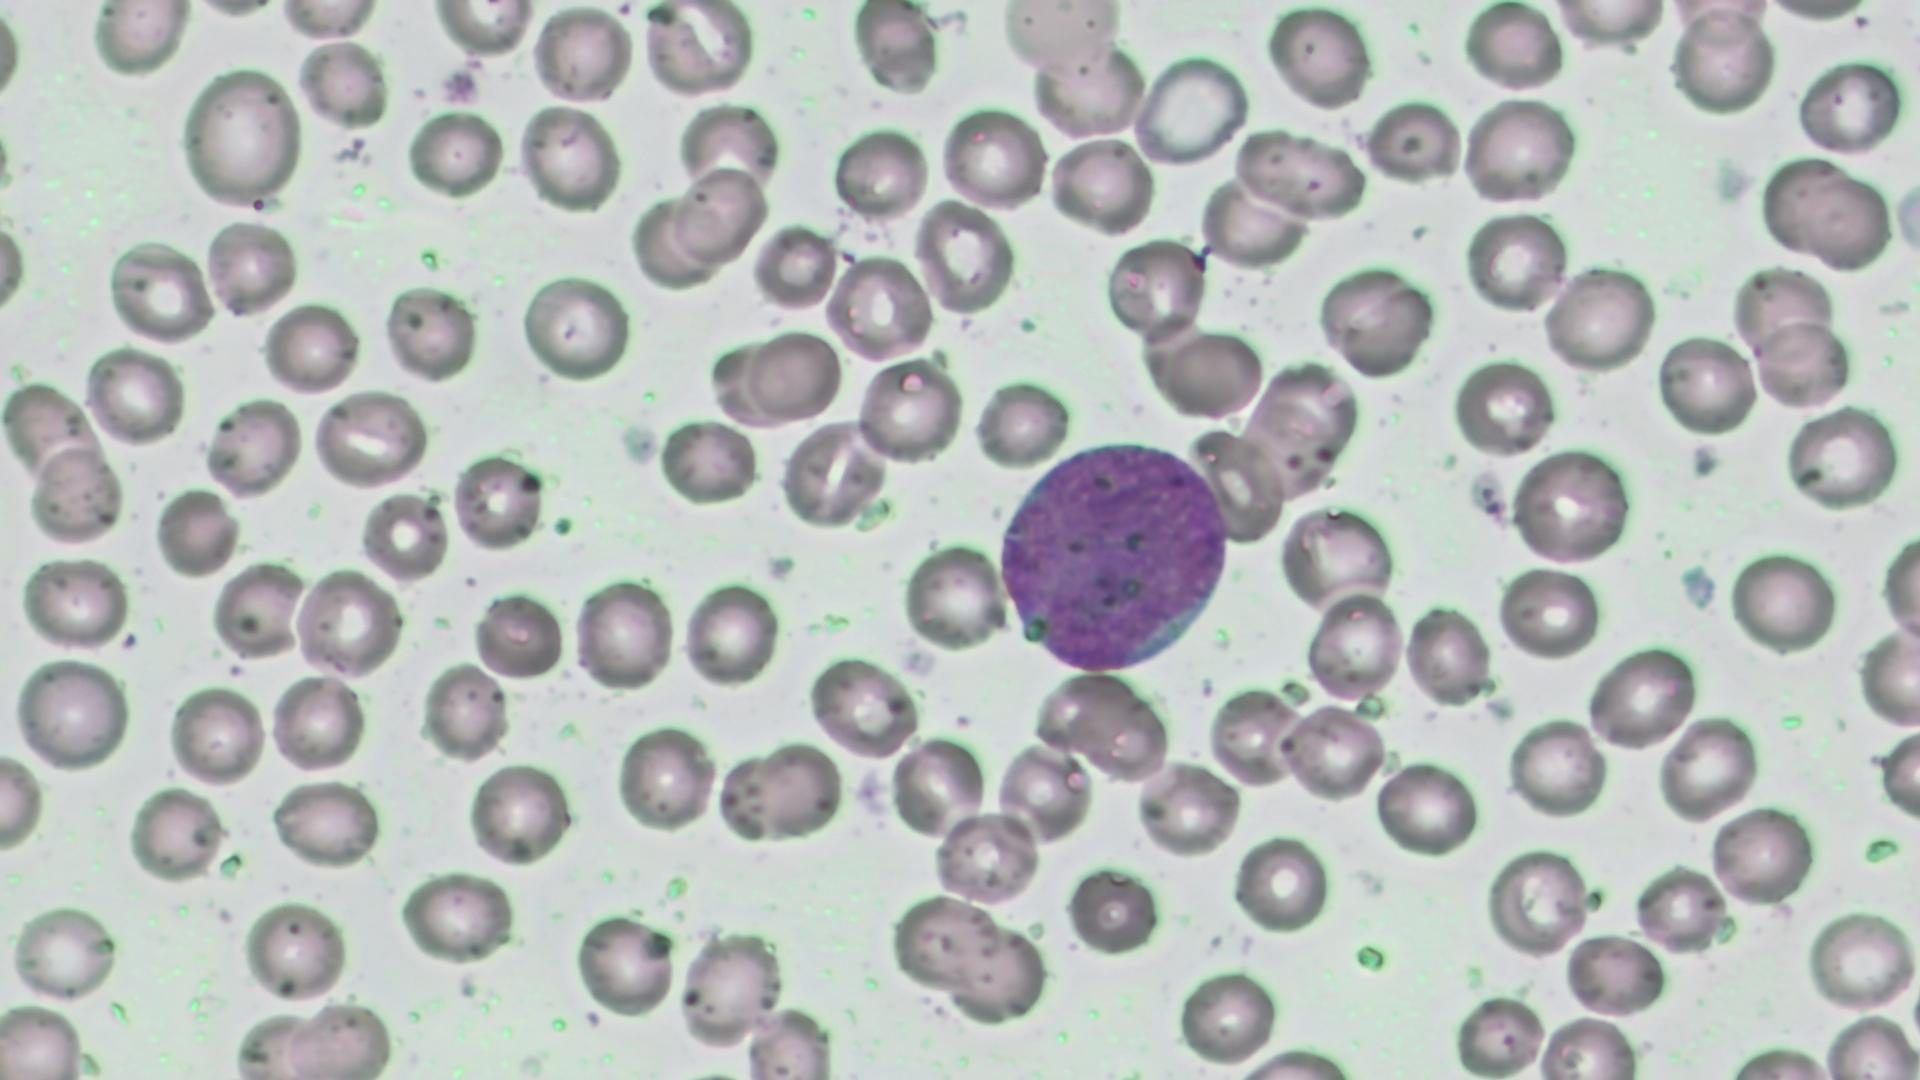Platelets: (1466, 468, 1514, 523), (438, 64, 484, 110), (848, 766, 892, 811), (1689, 442, 1722, 480)
RBC: (179, 64, 306, 211), (1756, 153, 1894, 270), (1509, 446, 1629, 566), (1130, 50, 1250, 169), (675, 926, 787, 1052), (1317, 262, 1436, 379), (1459, 92, 1578, 209), (10, 654, 130, 770), (716, 740, 845, 847), (1539, 262, 1656, 375), (1780, 403, 1904, 509), (936, 100, 1052, 213), (1234, 124, 1370, 220), (519, 269, 633, 383), (779, 414, 889, 532), (1276, 502, 1396, 609), (806, 650, 920, 761), (910, 197, 1016, 316), (572, 574, 676, 693), (1804, 906, 1916, 1016), (1666, 7, 1778, 117), (1792, 51, 1906, 159), (826, 251, 934, 365), (6, 899, 122, 1004), (885, 890, 1002, 994), (294, 567, 401, 680), (614, 722, 718, 838), (1150, 323, 1268, 425), (514, 102, 620, 215), (239, 896, 353, 1001), (1726, 547, 1840, 652), (1265, 1, 1373, 111), (854, 355, 962, 465), (1103, 234, 1210, 344), (942, 919, 1050, 1027), (1486, 844, 1592, 954), (900, 539, 1004, 651), (311, 389, 426, 490), (106, 236, 212, 345), (1587, 645, 1698, 749), (574, 910, 678, 1021), (680, 579, 783, 691), (464, 760, 570, 868), (930, 807, 1041, 909), (16, 551, 129, 651), (1462, 209, 1568, 315), (529, 3, 636, 108), (82, 344, 187, 451), (1280, 700, 1388, 804), (1707, 803, 1815, 907), (1726, 260, 1838, 360), (1300, 592, 1404, 699), (203, 392, 305, 501), (400, 868, 515, 964), (1044, 135, 1155, 234), (674, 99, 784, 198), (642, 1, 754, 98), (1372, 757, 1480, 857), (1134, 758, 1242, 857), (267, 776, 379, 871), (1449, 355, 1554, 456), (1656, 331, 1755, 438), (1206, 684, 1306, 789), (167, 681, 265, 788), (382, 278, 480, 384), (1656, 717, 1755, 821), (1176, 966, 1280, 1065), (890, 734, 986, 841), (1401, 600, 1497, 706), (1496, 565, 1602, 660), (22, 448, 123, 547), (124, 784, 225, 883), (268, 673, 365, 776), (201, 215, 299, 316), (1750, 318, 1856, 411), (1229, 833, 1328, 932), (1509, 717, 1605, 819), (1072, 684, 1170, 783), (970, 374, 1071, 470), (450, 450, 545, 551), (655, 415, 757, 508), (212, 559, 305, 660), (293, 38, 390, 134), (832, 123, 928, 220), (674, 164, 768, 263), (1461, 1, 1562, 93), (418, 660, 510, 760), (406, 105, 502, 200), (744, 327, 840, 422), (262, 299, 358, 394), (1363, 96, 1462, 188), (848, 0, 941, 97), (1065, 862, 1162, 955), (1564, 932, 1666, 1020), (471, 588, 565, 682), (358, 488, 451, 583), (1634, 861, 1726, 954), (85, 0, 193, 77), (748, 220, 837, 312), (154, 486, 241, 578), (1532, 1014, 1647, 1080), (1857, 626, 1920, 730), (427, 1, 535, 59), (0, 740, 47, 857), (271, 0, 384, 42), (1875, 725, 1920, 829), (1880, 532, 1920, 646)
WBC: (992, 431, 1234, 676)
